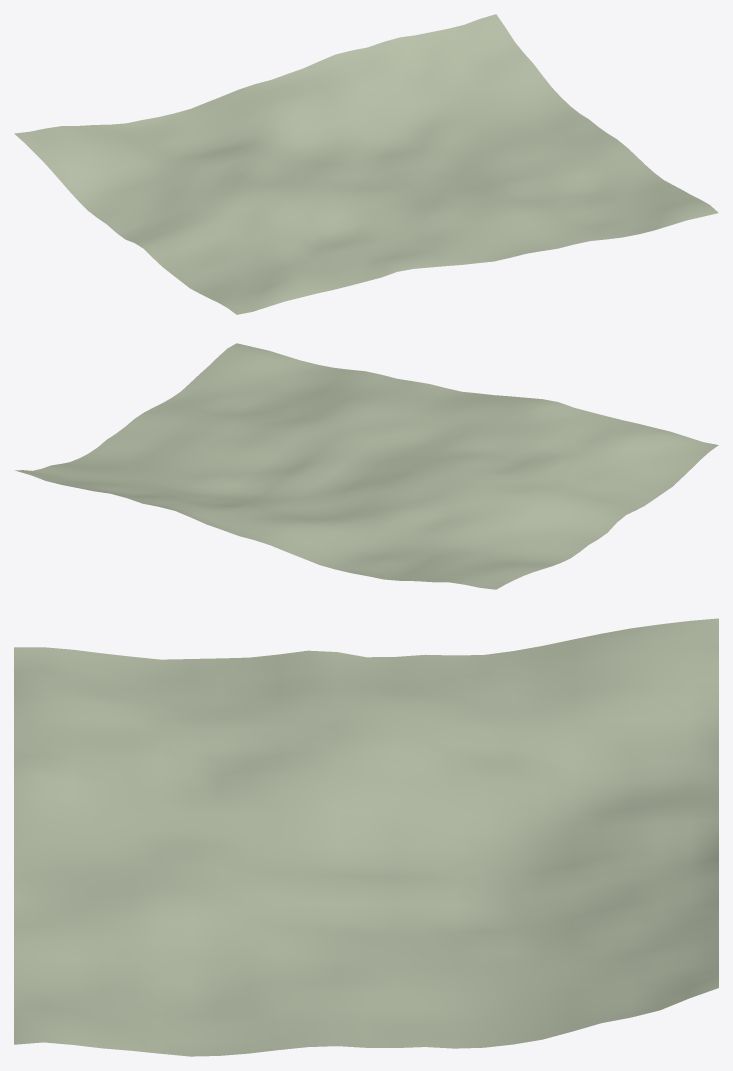
The picture shows the model from 3 angles, top to bottom: view 1: azimuth 30°, elevation 25°; view 2: azimuth 150°, elevation 25°; view 3: azimuth 270°, elevation 25°; orthographic projection. The views are drawn at different scales.
Parts seen in each view (by area): view 1: world-ground/60-48; view 2: world-ground/60-48; view 3: world-ground/60-48.
Boxes of the visible parts, left/top/right/bottom form: world-ground/60-48: left=14, top=14, right=718, bottom=314; world-ground/60-48: left=15, top=343, right=718, bottom=589; world-ground/60-48: left=14, top=618, right=718, bottom=1056.
Size of the model in its own units: 37.5 by 3.23 by 30.
